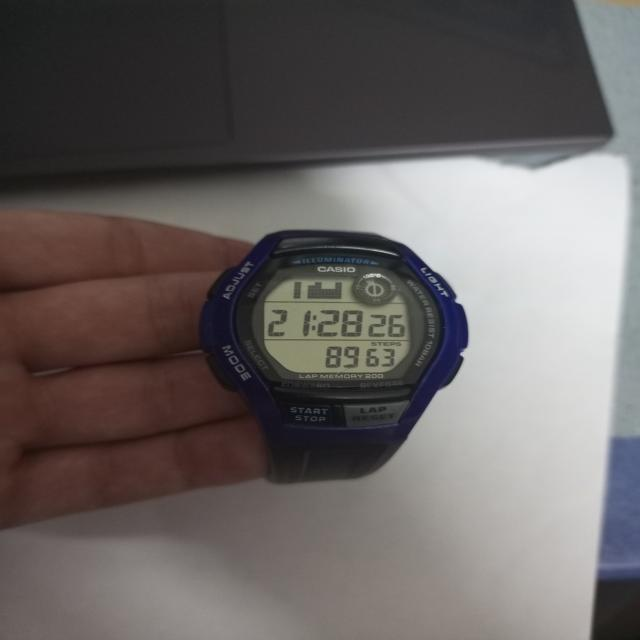watch: (199, 230, 467, 440)
